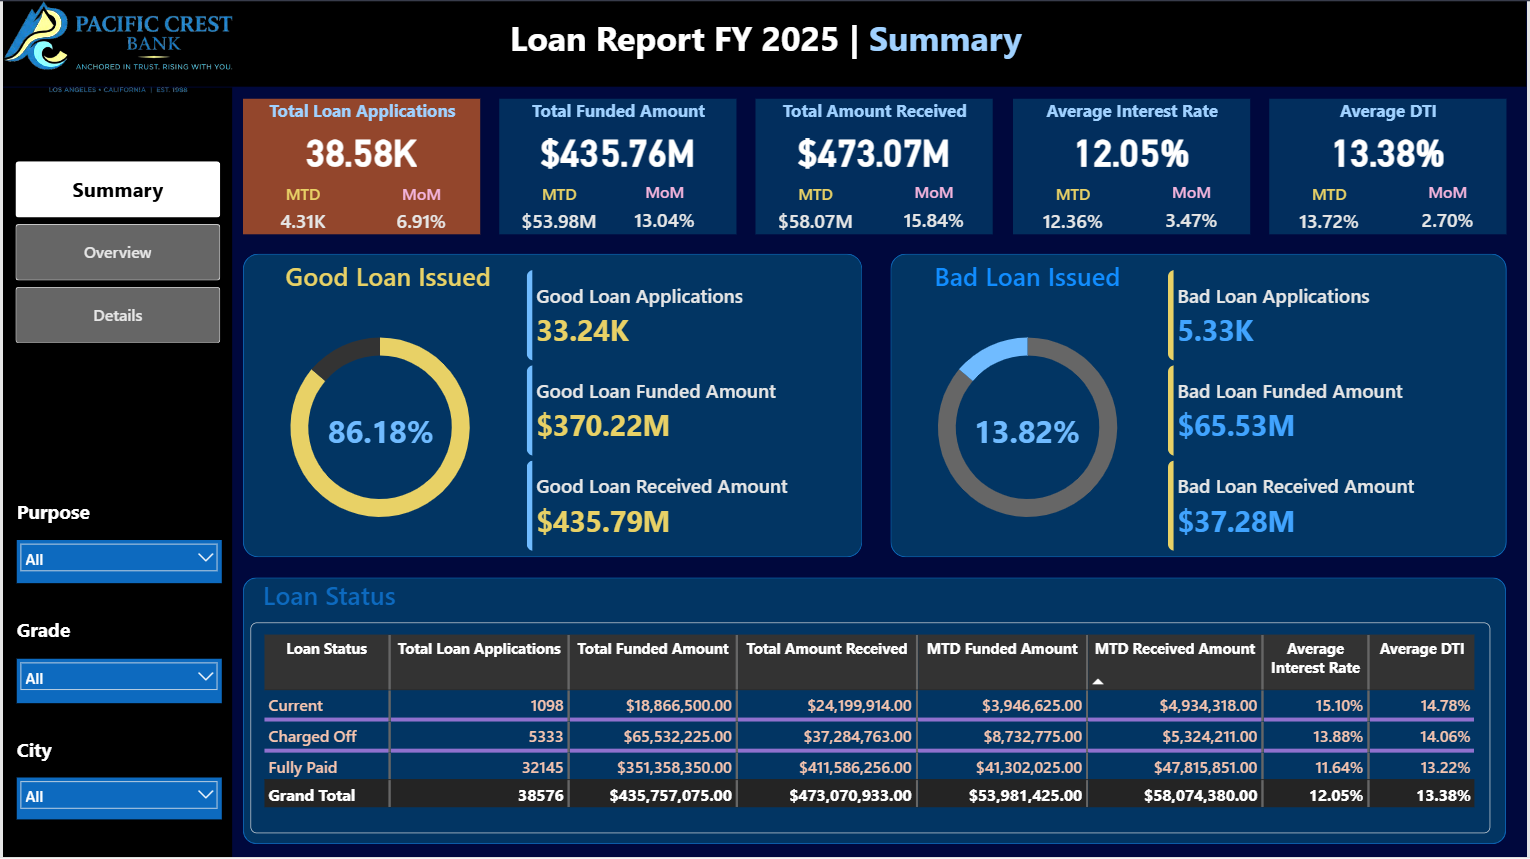

This screenshot's page, from the dashboard's own definition file:
{"tool":"powerbi","page":{"name":"Summary","canvas":[1920,1080],"ordinal":0},"visuals":[{"type":"shape","box":[0,110.1,289.2,970.1],"z":0},{"type":"shape","box":[302.8,124.2,298.9,170.8],"z":0,"group":"g1"},{"type":"shape","box":[625.8,124.2,298.9,170.8],"z":0,"group":"g2"},{"type":"shape","box":[949.2,124.2,298.9,170.8],"z":0,"group":"g3"},{"type":"shape","box":[1272.7,124.2,298.9,170.8],"z":0,"group":"g4"},{"type":"shape","box":[1596.2,124.2,298.9,170.8],"z":0,"group":"g5"},{"type":"cardVisual","fields":{"Data":["financial_loan_Year_2025.Total Loan Applications"]},"box":[302.8,149.4,298.9,79.6],"z":1000,"group":"g1"},{"type":"cardVisual","fields":{"Data":["financial_loan_Year_2025.Total Funded Amount"]},"box":[625.8,149.4,298.9,79.6],"z":1000,"group":"g2"},{"type":"cardVisual","fields":{"Data":["financial_loan_Year_2025.Total Amount Received"]},"box":[949.2,149.4,298.9,79.6],"z":1000,"group":"g3"},{"type":"cardVisual","fields":{"Data":["financial_loan_Year_2025.Average Interest Rate"]},"box":[1272.7,149.4,298.9,79.6],"z":1000,"group":"g4"},{"type":"cardVisual","fields":{"Data":["financial_loan_Year_2025.Averate DTI"]},"box":[1596.2,149.4,298.9,79.6],"z":1000,"group":"g5"},{"type":"shape","box":[302.8,727.9,1591.7,335.8],"z":1000},{"type":"textbox","box":[302.2,125,300.4,48.5],"z":2000,"group":"g1"},{"type":"textbox","box":[625.2,125,300.4,48.5],"z":2000,"group":"g2"},{"type":"textbox","box":[948.6,125,300.4,48.5],"z":2000,"group":"g3"},{"type":"textbox","box":[1272.1,125,300.4,48.5],"z":2000,"group":"g4"},{"type":"textbox","box":[1595.6,125,300.4,48.5],"z":2000,"group":"g5"},{"type":"shape","box":[302.8,320.3,780.3,382.4],"z":2000},{"type":"shape","box":[0,0,1919.7,109.3],"z":3000},{"type":"cardVisual","title":"MTD","fields":{"Data":["financial_loan_Year_2025.MTD Loan Application"]},"box":[302.8,229,151.4,66],"z":3000,"group":"g1"},{"type":"cardVisual","title":"MTD","fields":{"Data":["financial_loan_Year_2025.MTD Funded Amount"]},"box":[625.8,229,151.4,66],"z":3000,"group":"g2"},{"type":"cardVisual","title":"MTD","fields":{"Data":["financial_loan_Year_2025.MTD Received Amount"]},"box":[949.2,229,151.4,66],"z":3000,"group":"g3"},{"type":"cardVisual","title":"MTD","fields":{"Data":["financial_loan_Year_2025.MTD Average Interest Rate"]},"box":[1272.7,229,151.4,66],"z":3000,"group":"g4"},{"type":"cardVisual","title":"MTD","fields":{"Data":["financial_loan_Year_2025.MTD Average DTI"]},"box":[1596.2,229,151.4,66],"z":3000,"group":"g5"},{"type":"group","id":"g1","title":"Group 1","box":[302.2,124.2,300.4,170.8],"z":4000},{"type":"cardVisual","title":"MoM","fields":{"Data":["financial_loan_Year_2025.MoM Funded Amount"]},"box":[776.2,228.6,114.5,66],"z":4000,"group":"g2"},{"type":"cardVisual","title":"MoM","fields":{"Data":["financial_loan_Year_2025.MoM Received Amount"]},"box":[1100.1,228.6,147.5,66],"z":4000,"group":"g3"},{"type":"cardVisual","title":"MoM","fields":{"Data":["financial_loan_Year_2025.MoM Average Interest Rate"]},"box":[1423.6,228.6,147.5,66],"z":4000,"group":"g4"},{"type":"cardVisual","title":"MoM","fields":{"Data":["financial_loan_Year_2025.MoM Average DTI"]},"box":[1747.1,228.6,147.5,66],"z":4000,"group":"g5"},{"type":"cardVisual","title":"MoM","fields":{"Data":["financial_loan_Year_2025.MoM Loan Application"]},"box":[454.2,229,147.5,66],"z":4000,"group":"g1"},{"type":"donutChart","fields":{"Category":["financial_loan_Year_2025.Good Loan Vs Bad Loan"],"Y":["financial_loan_Year_2025.Total Loan Applications"]},"box":[302.8,382.4,345.5,312.5],"z":5000},{"type":"group","id":"g2","title":"Group 1","box":[625.2,124.2,300.4,170.8],"z":6000},{"type":"group","id":"g3","title":"Group 1","box":[948.6,124.2,300.9,170.8],"z":7000},{"type":"group","id":"g4","title":"Group 1","box":[1272.1,124.2,300.9,170.8],"z":8000},{"type":"group","id":"g5","title":"Group 1","box":[1595.6,124.2,300.9,170.8],"z":9000},{"type":"textbox","box":[590.1,17.5,741.5,73.8],"z":10000},{"type":"shape","box":[1118.1,320.3,776.4,382.4],"z":11000},{"type":"textbox","box":[312.5,326.1,347.5,56.3],"z":12000},{"type":"cardVisual","fields":{"Data":["financial_loan_Year_2025.Good Loan Applications","financial_loan_Year_2025.Good Loan Funded Amount","financial_loan_Year_2025.Good Loan Received Amount"]},"box":[660,339.7,407.6,355.2],"z":13000},{"type":"donutChart","fields":{"Category":["financial_loan_Year_2025.Good Loan Vs Bad Loan"],"Y":["financial_loan_Year_2025.Total Loan Applications"]},"box":[1118.1,382.4,345.5,312.5],"z":14000},{"type":"textbox","box":[1118.1,326.1,345.5,56.3],"z":15000},{"type":"cardVisual","fields":{"Data":["financial_loan_Year_2025.Bad Loan Percentage"]},"box":[1209.3,506.6,161.1,66],"z":16000},{"type":"cardVisual","fields":{"Data":["financial_loan_Year_2025.Bad Loan Applications","financial_loan_Year_2025.Bad Loan Funded Amount","financial_loan_Year_2025.Bad Loan Received Amount"]},"box":[1467.5,339.7,407.6,355.2],"z":17000},{"type":"cardVisual","fields":{"Data":["financial_loan_Year_2025.Good Loan Percentage"]},"box":[396,506.6,161.1,66],"z":18000},{"type":"textbox","box":[328,727.9,347.5,56.3],"z":19000},{"type":"tableEx","fields":{"Values":["financial_loan_Year_2025.loan_status","financial_loan_Year_2025.Total Loan Applications","financial_loan_Year_2025.Total Funded Amount","financial_loan_Year_2025.Total Amount Received","financial_loan_Year_2025.MTD Funded Amount","financial_loan_Year_2025.MTD Received Amount","financial_loan_Year_2025.Average Interest Rate","financial_loan_Year_2025.Average DTI"]},"box":[312.5,784.2,1562.6,265.9],"z":20000},{"type":"slicer","fields":{"Values":["financial_loan_Year_2025.address_city"]},"box":[17.5,680.8,258.2,54.4],"z":21000},{"type":"textbox","box":[17.5,628.9,258.2,52.4],"z":22000},{"type":"slicer","fields":{"Values":["financial_loan_Year_2025.grade"]},"box":[17.5,829.5,258.2,56.3],"z":23000},{"type":"textbox","box":[17.5,776.4,258.2,52.4],"z":24000},{"type":"textbox","box":[17.5,927.7,258.2,52.4],"z":25000},{"type":"slicer","fields":{"Values":["financial_loan_Year_2025.Good Loan Vs Bad Loan"]},"box":[17.5,980.2,258.2,52.4],"z":26000},{"type":"image","box":[0,0,289.2,124.2],"z":27000},{"type":"pageNavigator","box":[15.5,203.8,258.2,231],"z":28000}]}

Visuals, with their boxes in screenshot pixels (x1, y1, x2, y2), scaled from the page's 1920x1080 canvas onto the 1530x859 screenshot:
shape: l=0, t=88, r=230, b=858
shape: l=241, t=99, r=479, b=235
shape: l=499, t=99, r=737, b=235
shape: l=756, t=99, r=995, b=235
shape: l=1014, t=99, r=1252, b=235
shape: l=1272, t=99, r=1510, b=235
cardVisual - financial_loan_Year_2025.Total Loan Applications: l=241, t=119, r=479, b=182
cardVisual - financial_loan_Year_2025.Total Funded Amount: l=499, t=119, r=737, b=182
cardVisual - financial_loan_Year_2025.Total Amount Received: l=756, t=119, r=995, b=182
cardVisual - financial_loan_Year_2025.Average Interest Rate: l=1014, t=119, r=1252, b=182
cardVisual - financial_loan_Year_2025.Averate DTI: l=1272, t=119, r=1510, b=182
shape: l=241, t=579, r=1510, b=846
textbox: l=241, t=99, r=480, b=138
textbox: l=498, t=99, r=738, b=138
textbox: l=756, t=99, r=995, b=138
textbox: l=1014, t=99, r=1253, b=138
textbox: l=1271, t=99, r=1511, b=138
shape: l=241, t=255, r=863, b=559
shape: l=0, t=0, r=1529, b=87
"MTD" cardVisual: l=241, t=182, r=362, b=235
"MTD" cardVisual: l=499, t=182, r=619, b=235
"MTD" cardVisual: l=756, t=182, r=877, b=235
"MTD" cardVisual: l=1014, t=182, r=1135, b=235
"MTD" cardVisual: l=1272, t=182, r=1393, b=235
"Group 1" group: l=241, t=99, r=480, b=235
"MoM" cardVisual: l=619, t=182, r=710, b=234
"MoM" cardVisual: l=877, t=182, r=994, b=234
"MoM" cardVisual: l=1134, t=182, r=1252, b=234
"MoM" cardVisual: l=1392, t=182, r=1510, b=234
"MoM" cardVisual: l=362, t=182, r=479, b=235
donutChart - financial_loan_Year_2025.Good Loan Vs Bad Loan x financial_loan_Year_2025.Total Loan Applications: l=241, t=304, r=517, b=553
"Group 1" group: l=498, t=99, r=738, b=235
"Group 1" group: l=756, t=99, r=996, b=235
"Group 1" group: l=1014, t=99, r=1253, b=235
"Group 1" group: l=1271, t=99, r=1511, b=235
textbox: l=470, t=14, r=1061, b=73
shape: l=891, t=255, r=1510, b=559
textbox: l=249, t=259, r=526, b=304
cardVisual - financial_loan_Year_2025.Good Loan Applications x financial_loan_Year_2025.Good Loan Funded Amount: l=526, t=270, r=851, b=553
donutChart - financial_loan_Year_2025.Good Loan Vs Bad Loan x financial_loan_Year_2025.Total Loan Applications: l=891, t=304, r=1166, b=553
textbox: l=891, t=259, r=1166, b=304
cardVisual - financial_loan_Year_2025.Bad Loan Percentage: l=964, t=403, r=1092, b=455
cardVisual - financial_loan_Year_2025.Bad Loan Applications x financial_loan_Year_2025.Bad Loan Funded Amount: l=1169, t=270, r=1494, b=553
cardVisual - financial_loan_Year_2025.Good Loan Percentage: l=316, t=403, r=444, b=455
textbox: l=261, t=579, r=538, b=624
tableEx - financial_loan_Year_2025.loan_status x financial_loan_Year_2025.Total Loan Applications: l=249, t=624, r=1494, b=835
slicer - financial_loan_Year_2025.address_city: l=14, t=541, r=220, b=585
textbox: l=14, t=500, r=220, b=542
slicer - financial_loan_Year_2025.grade: l=14, t=660, r=220, b=705
textbox: l=14, t=618, r=220, b=659
textbox: l=14, t=738, r=220, b=780
slicer - financial_loan_Year_2025.Good Loan Vs Bad Loan: l=14, t=780, r=220, b=821
image: l=0, t=0, r=230, b=99
pageNavigator: l=12, t=162, r=218, b=346
